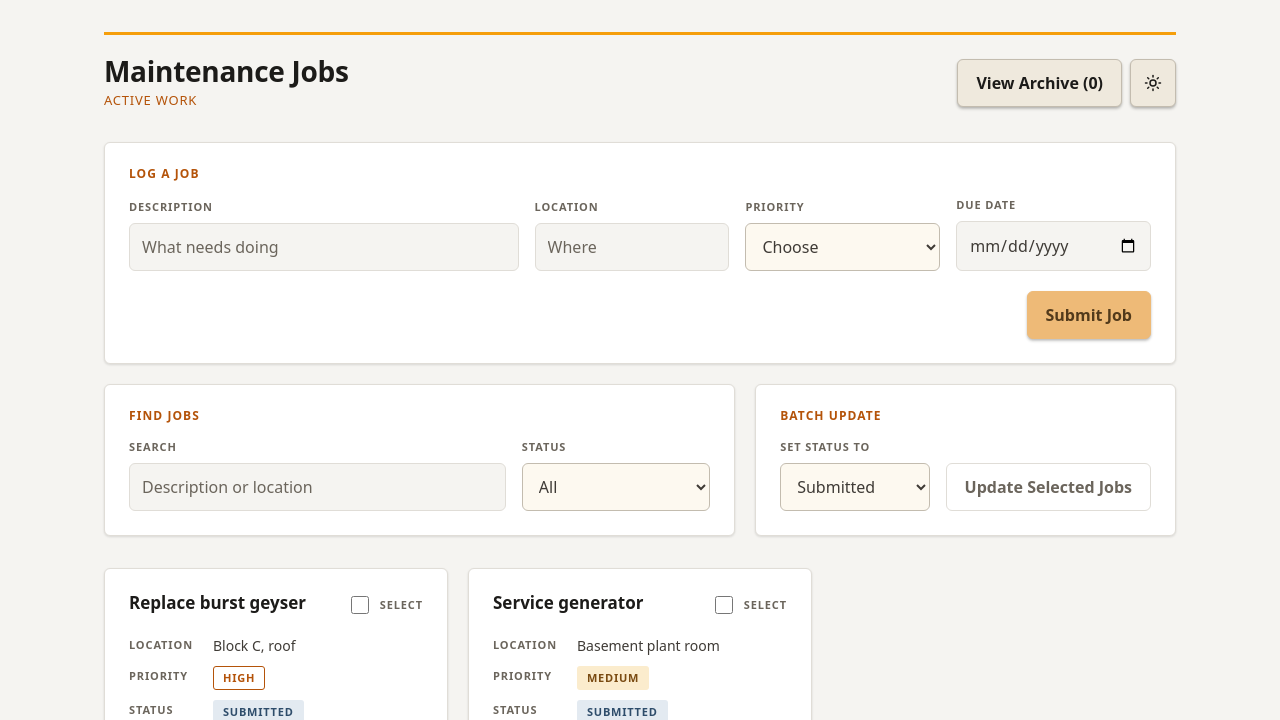
Test: batch selection › ignores a selected job once a search hides it
Expected: the heading "Replace burst geyser" is shown, x1=129 y1=593 x2=321 y2=613
Click the checkbox labelled "Select" next to "Replace burst geyser".
click(360, 605)  # box x1=351 y1=596 x2=369 y2=614
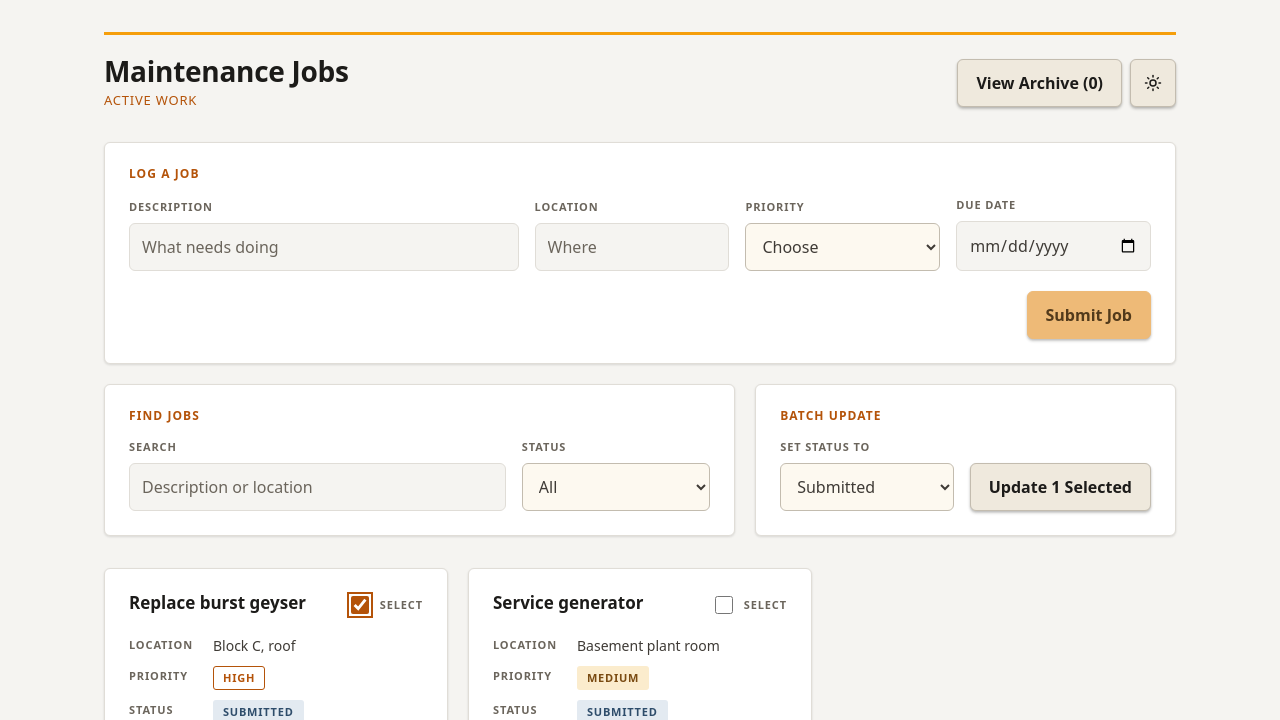
Type "generator" into the search field labelled "Search".
click(317, 487); type("generator")  # box x1=129 y1=463 x2=506 y2=511
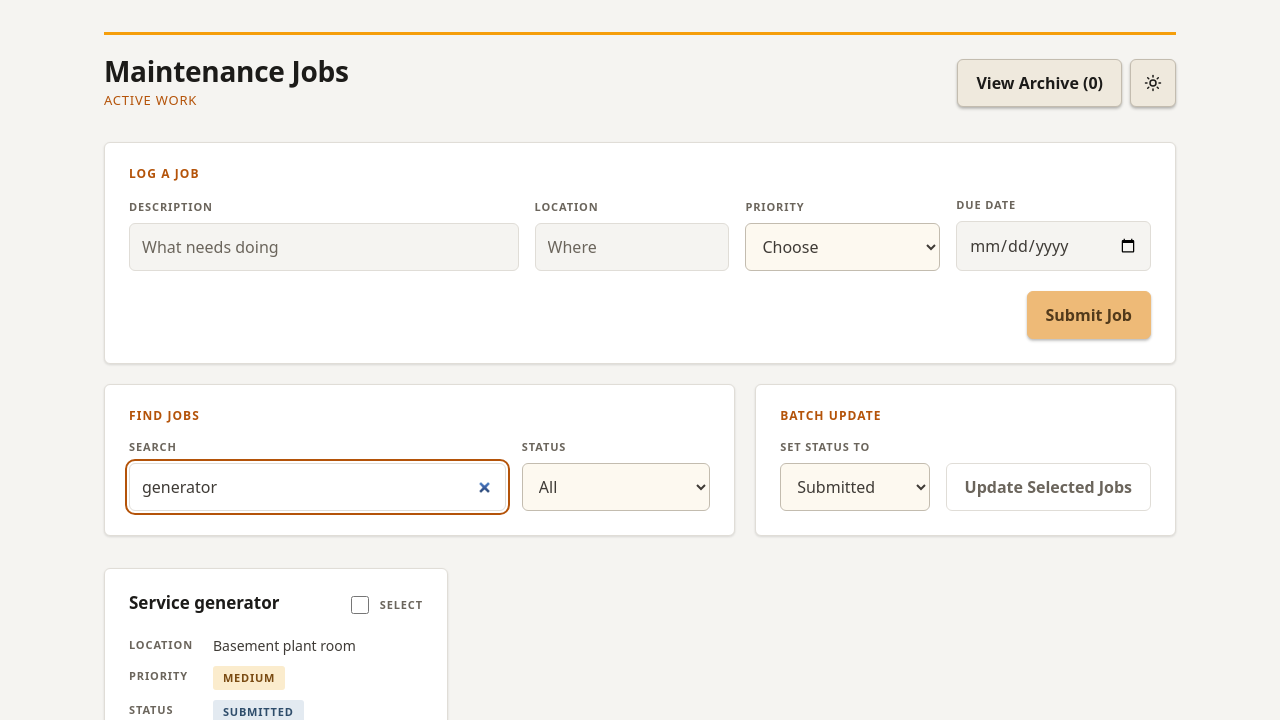
Now the heading "Replace burst geyser" is gone
Now the button "Update Selected Jobs" is disabled, box x1=946 y1=463 x2=1151 y2=511
